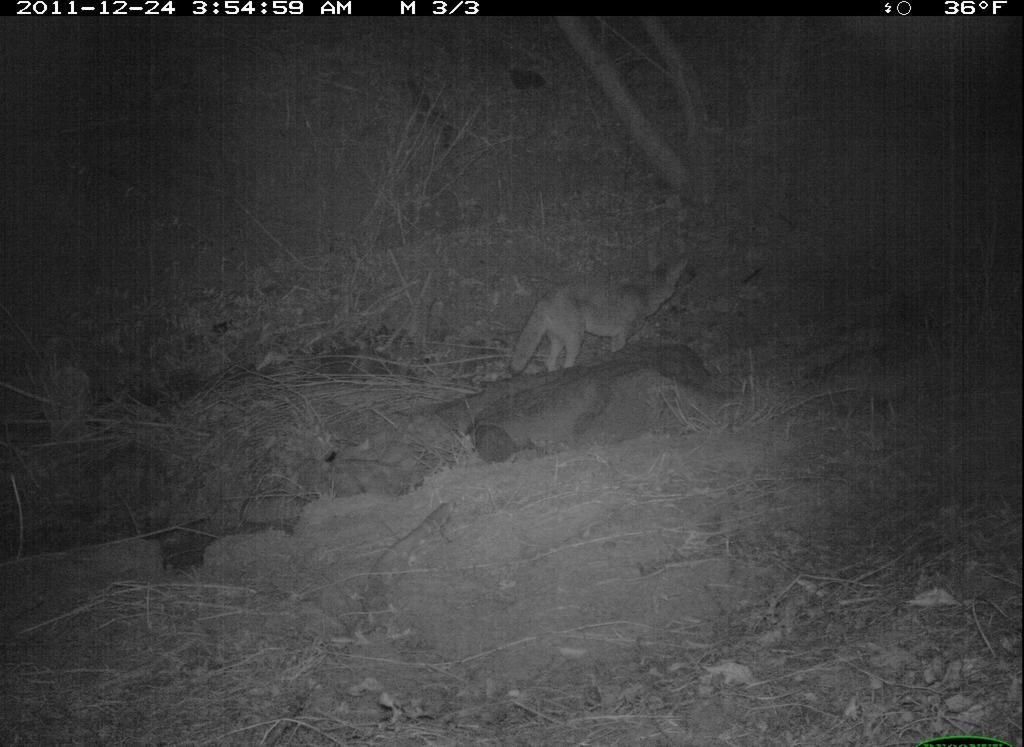coyote: (507, 241, 703, 387)
